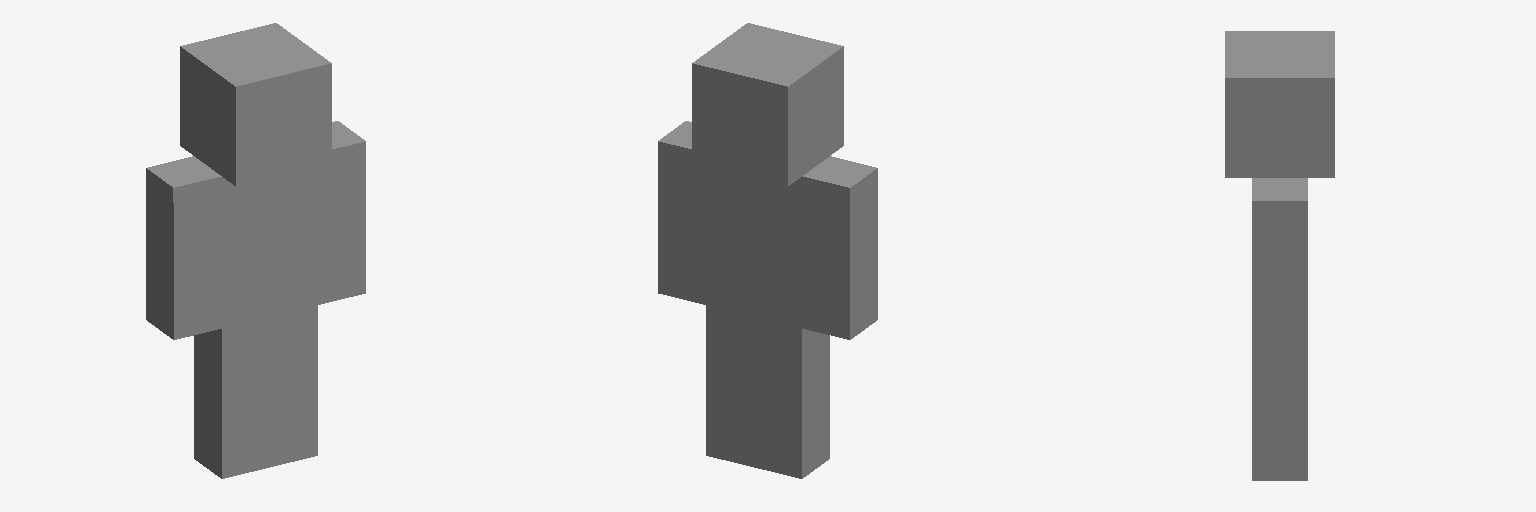
The model's file is haruhi.obj.
The picture shows the model from 3 angles: view 1: azimuth 30°, elevation 25°; view 2: azimuth 150°, elevation 25°; view 3: azimuth 270°, elevation 25°; orthographic projection.
Visible parts, largest first — view 1: Cube; view 2: Cube; view 3: Cube.
Boxes of the visible parts, x1=… form: Cube: x1=146, y1=23, x2=365, y2=478; Cube: x1=658, y1=23, x2=877, y2=478; Cube: x1=1225, y1=31, x2=1334, y2=480.
Bounding box in the file's own units: 3.13 × 6.27 × 1.56.